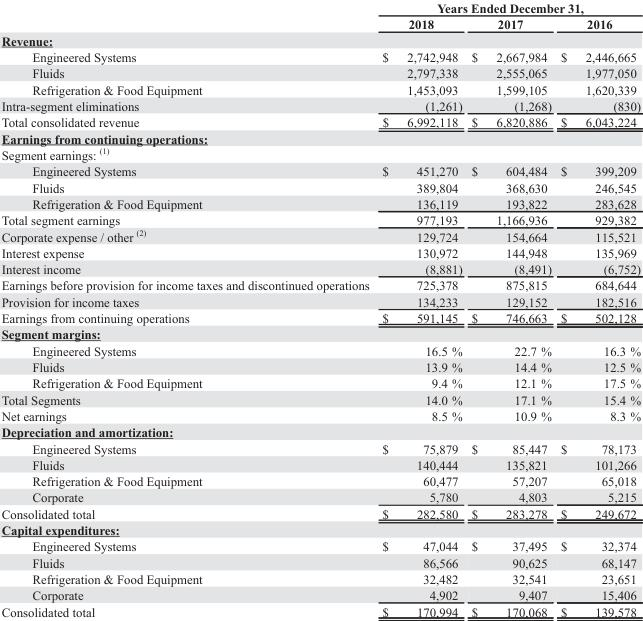table: (0, 0, 640, 618)
table column: (0, 0, 375, 618), (375, 0, 466, 618), (466, 0, 555, 618), (555, 0, 640, 618)
table column header: (0, 0, 640, 32)
table projected row header: (0, 145, 640, 162), (0, 325, 640, 342), (0, 423, 640, 440), (0, 32, 640, 48), (0, 521, 640, 537), (0, 130, 640, 145)
table row: (0, 15, 640, 32), (0, 48, 640, 65), (0, 113, 640, 130), (0, 145, 640, 162), (0, 162, 640, 179), (0, 227, 640, 244), (0, 260, 640, 277), (0, 325, 640, 342), (0, 374, 640, 391), (0, 423, 640, 440), (0, 472, 640, 489), (0, 537, 640, 554), (0, 586, 640, 603), (0, 32, 640, 48), (0, 65, 640, 81), (0, 81, 640, 97), (0, 97, 640, 113), (0, 179, 640, 195), (0, 195, 640, 211), (0, 211, 640, 227), (0, 244, 640, 260), (0, 277, 640, 293), (0, 293, 640, 309), (0, 309, 640, 325), (0, 342, 640, 358), (0, 358, 640, 374), (0, 391, 640, 407), (0, 407, 640, 423), (0, 440, 640, 456), (0, 456, 640, 472), (0, 489, 640, 505), (0, 505, 640, 521), (0, 521, 640, 537), (0, 554, 640, 570), (0, 570, 640, 586), (0, 0, 640, 15), (0, 130, 640, 145), (0, 603, 640, 618)
table spanning cell: (375, 0, 640, 15)
